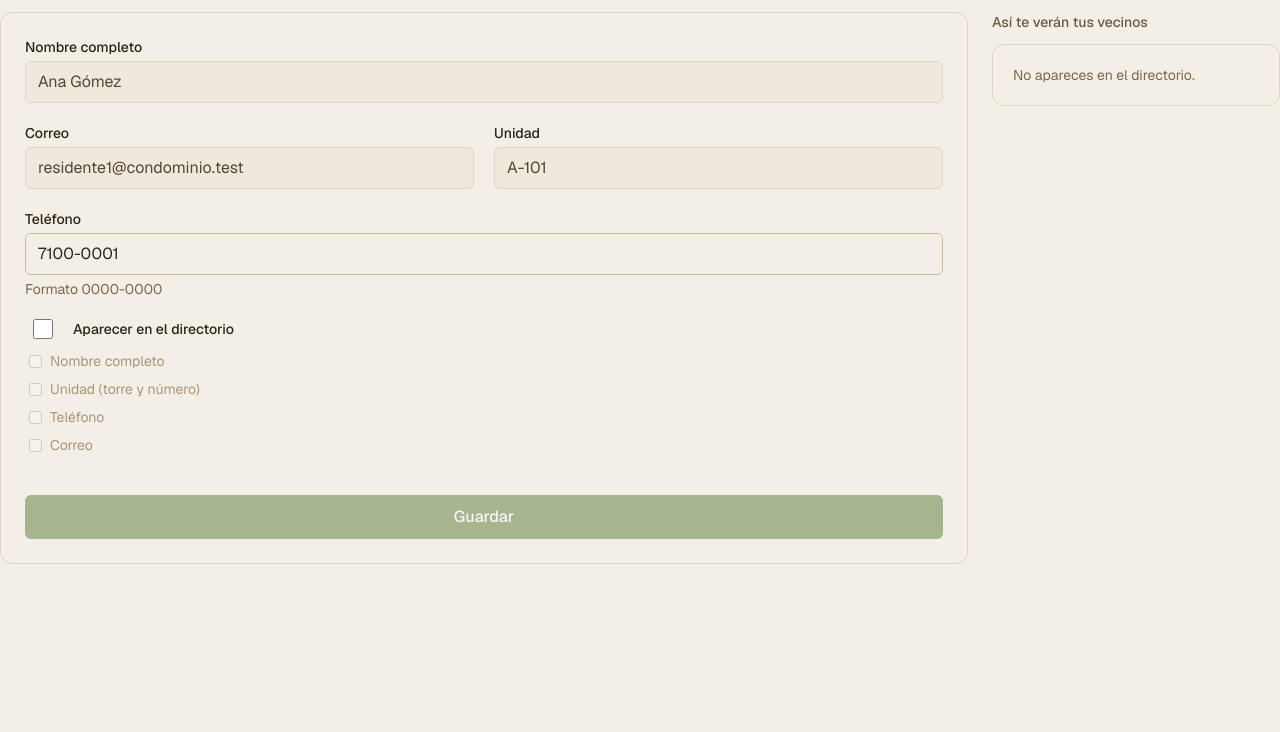
Test case: H28. Perfil y privacidad en el directorio › AC6: no permite guardar con el interruptor encendido si se oculta el nombre
This screenshot has width=1280, height=732.
Click the switch labelled "Aparecer en el directorio" at (43, 329), box [25,319,61,339]
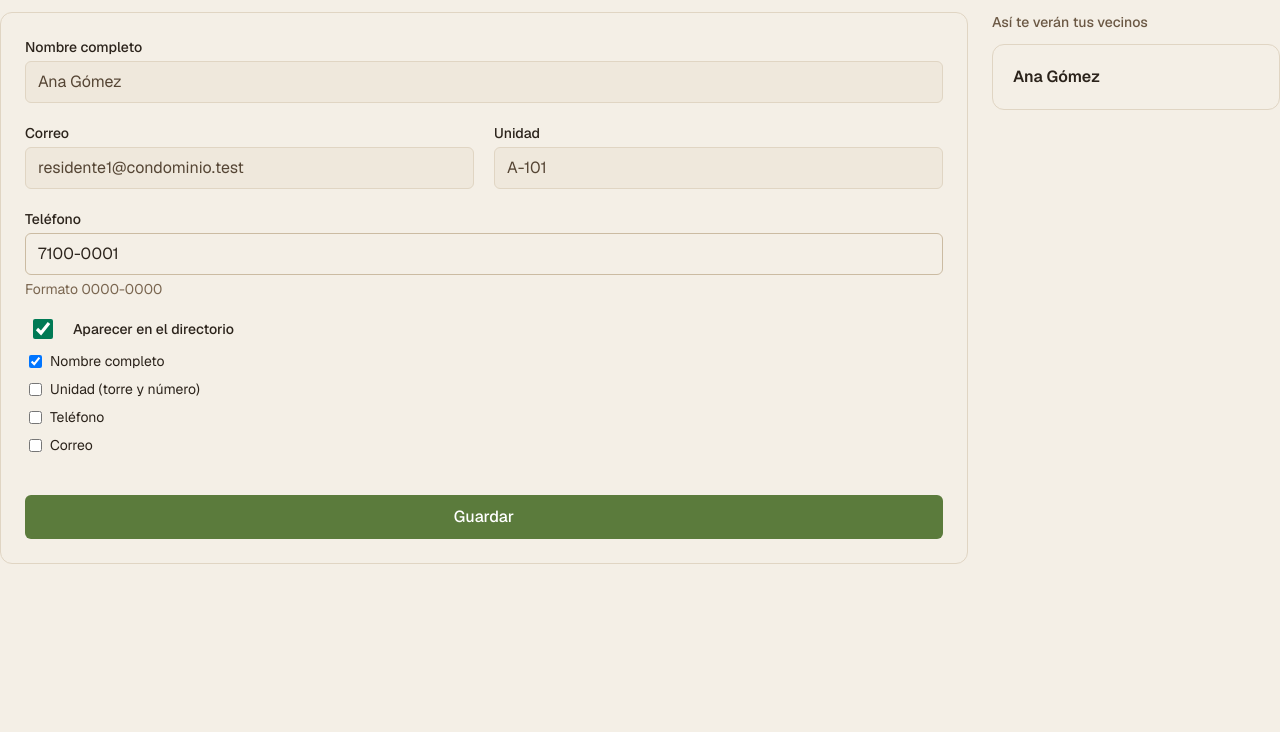
Click the checkbox labelled "Nombre completo" at (36, 361), box [29,354,42,368]
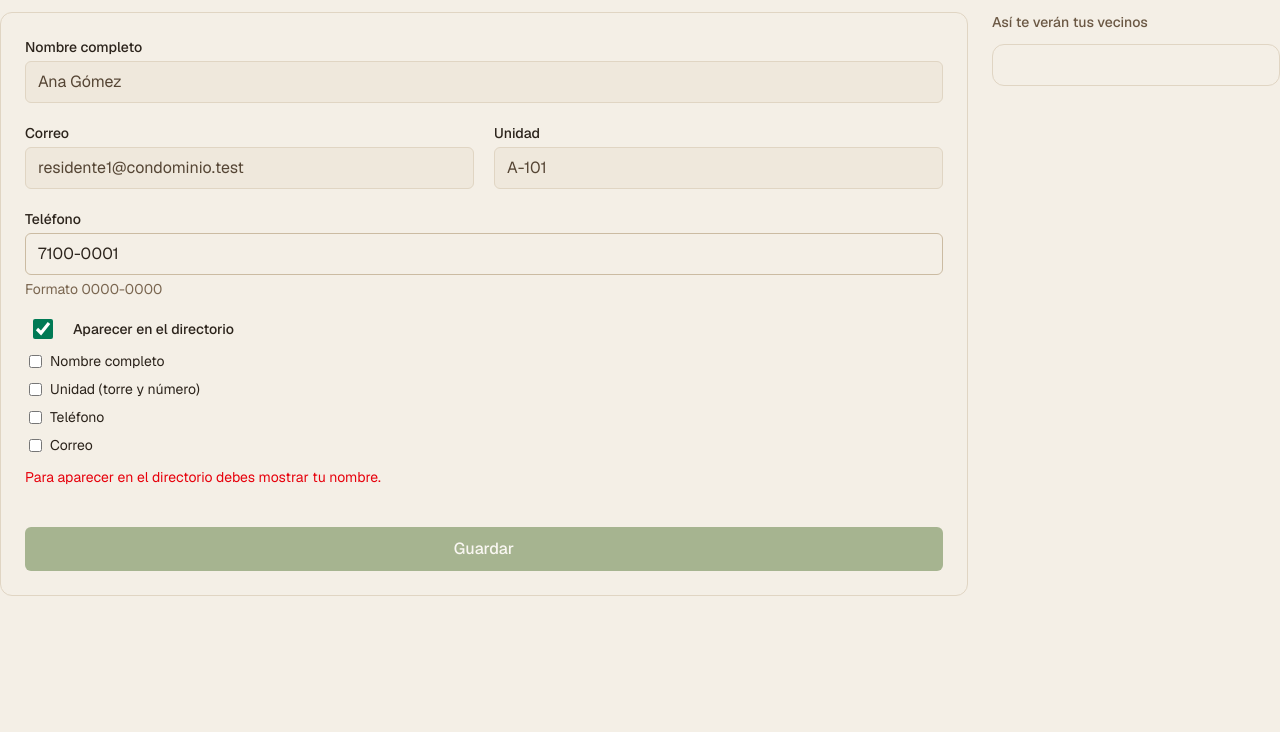
Check: the message reads "Para aparecer en el directorio debes mostrar tu nombre.", box [25,468,381,486]
Check: the button "Guardar" is disabled, box [25,527,943,571]
